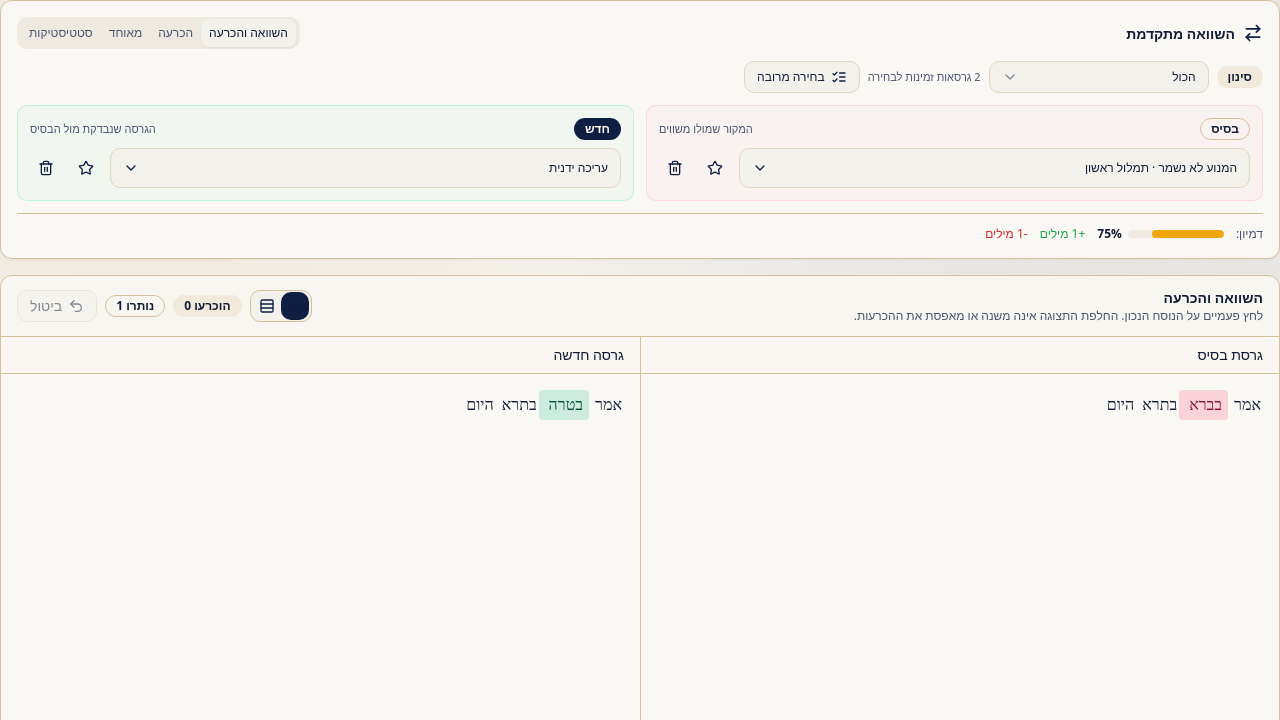
Test: AdvancedDiffView adjudication › keeps the quick adjudication non-modal and supports minimize and restore
The width and height of the screenshot is (1280, 720).
Double-click the button titled "לחץ פעמיים לאפשרויות אישור מגרסת הבסיס": coordinates (1204, 405) [1179,390,1228,420]
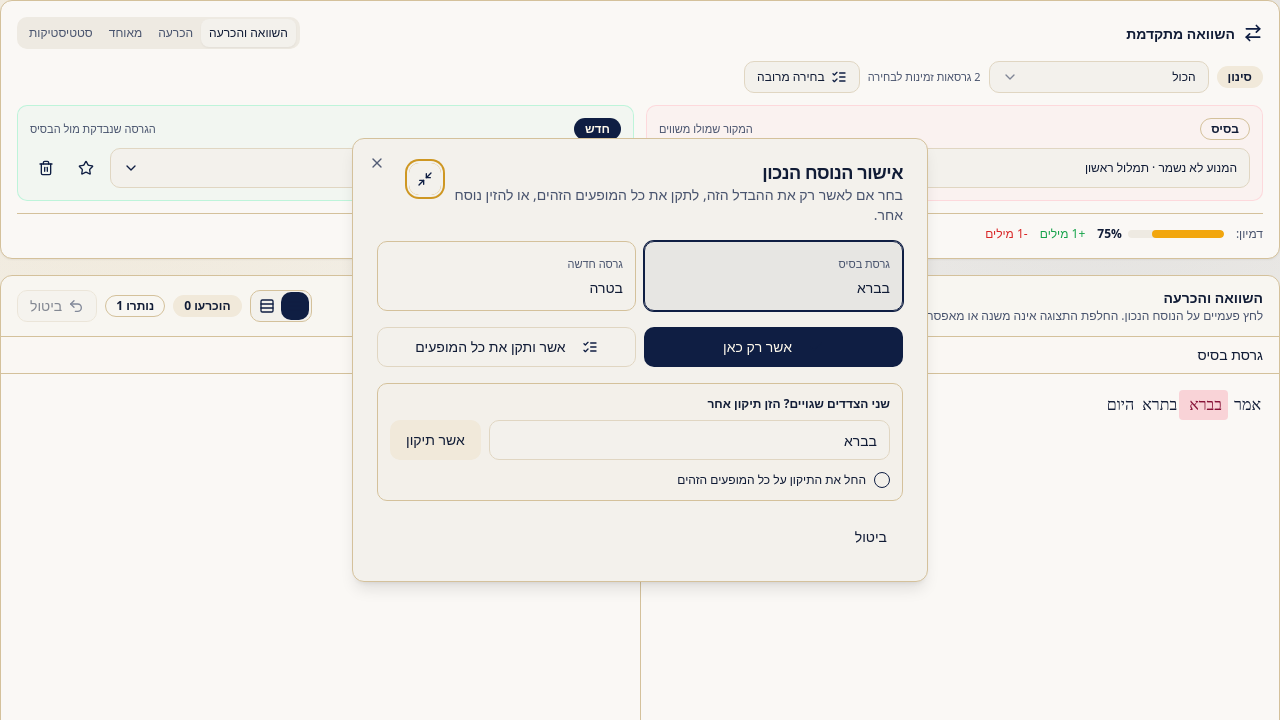
Click the button with test id "minimize-quick-adjudication": coordinates (425, 179) [409,163,441,195]
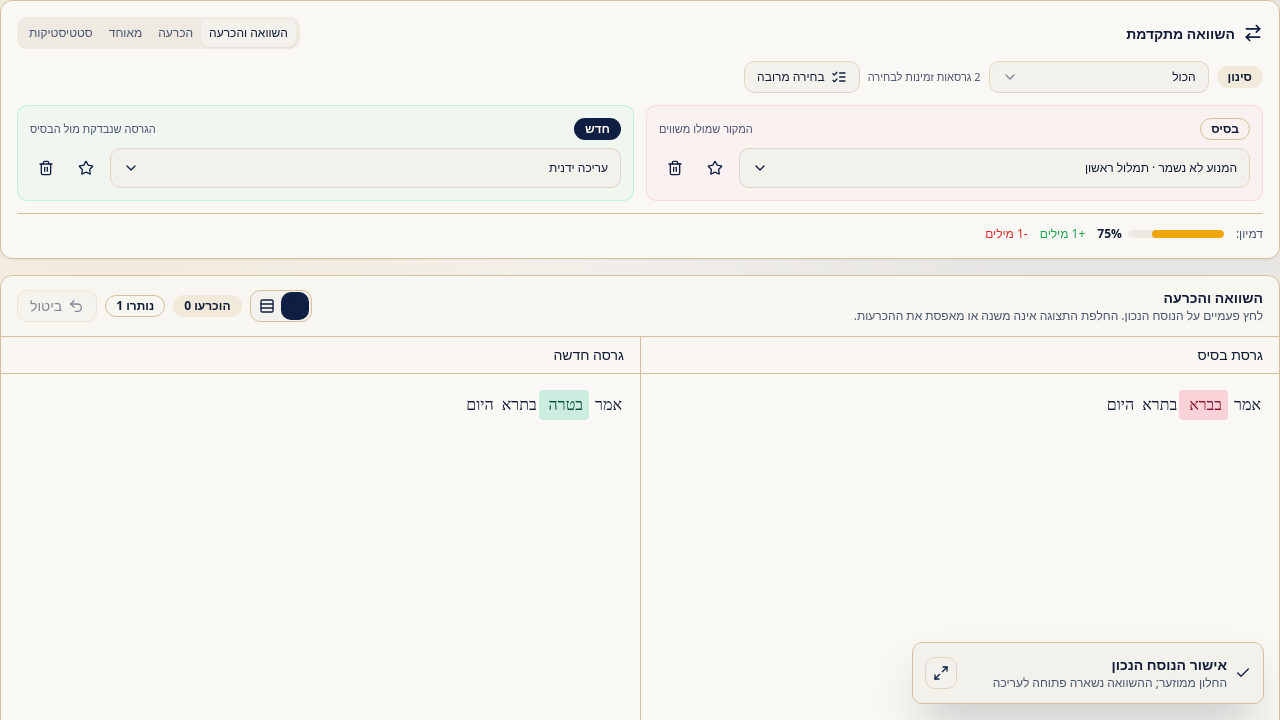
expect the element with test id "quick-adjudication-minimized" is shown: met, box [912,642,1264,704]
expect the dialog with test id "quick-adjudication-dialog" is gone: met
Click the button named "הרחב חלון הכרעה": coordinates (941, 673) [925,657,957,689]
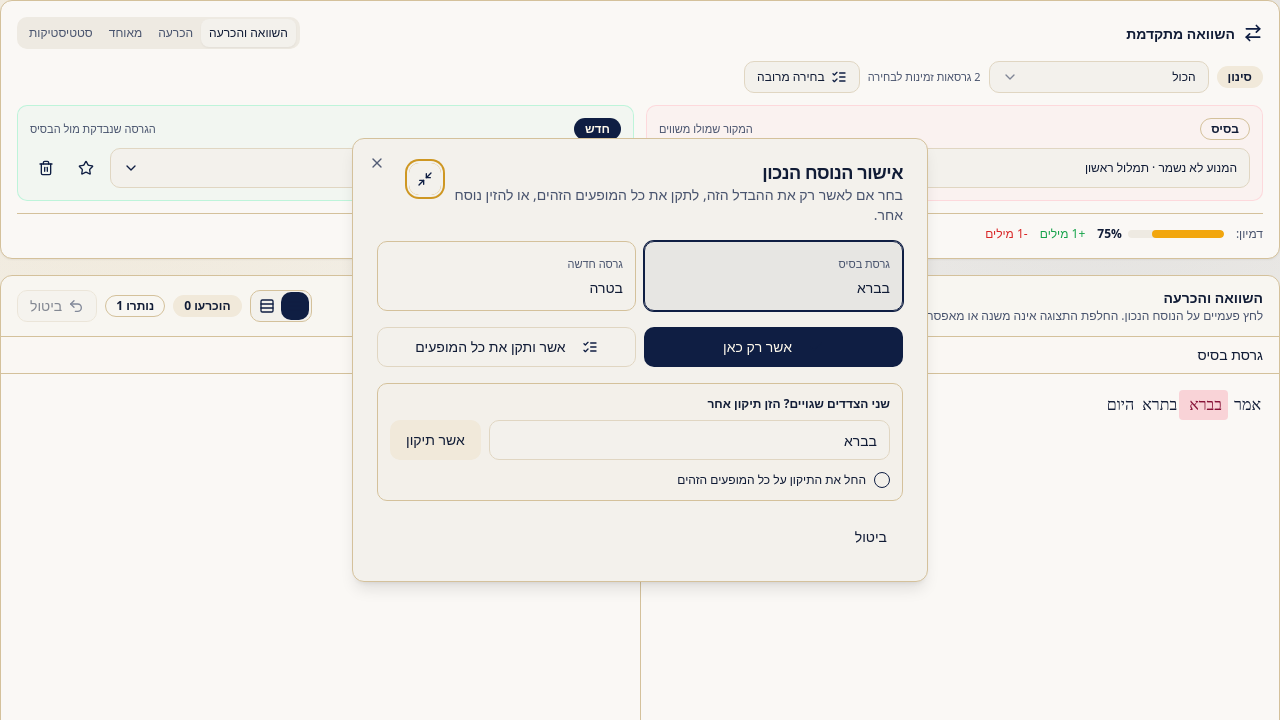
expect the dialog with test id "quick-adjudication-dialog" is shown: met, box [352,138,928,582]
